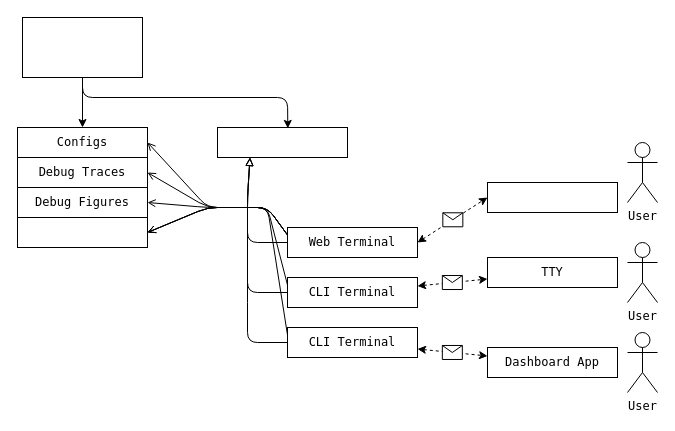
Image size: 675x431. Some labels were removed from this diagram. Each missing label, with the box of its shape:
Application: (22, 16, 142, 78)
ITerminal: (216, 126, 348, 158)
Logging: (16, 216, 148, 248)
Web Browser: (486, 182, 618, 212)
